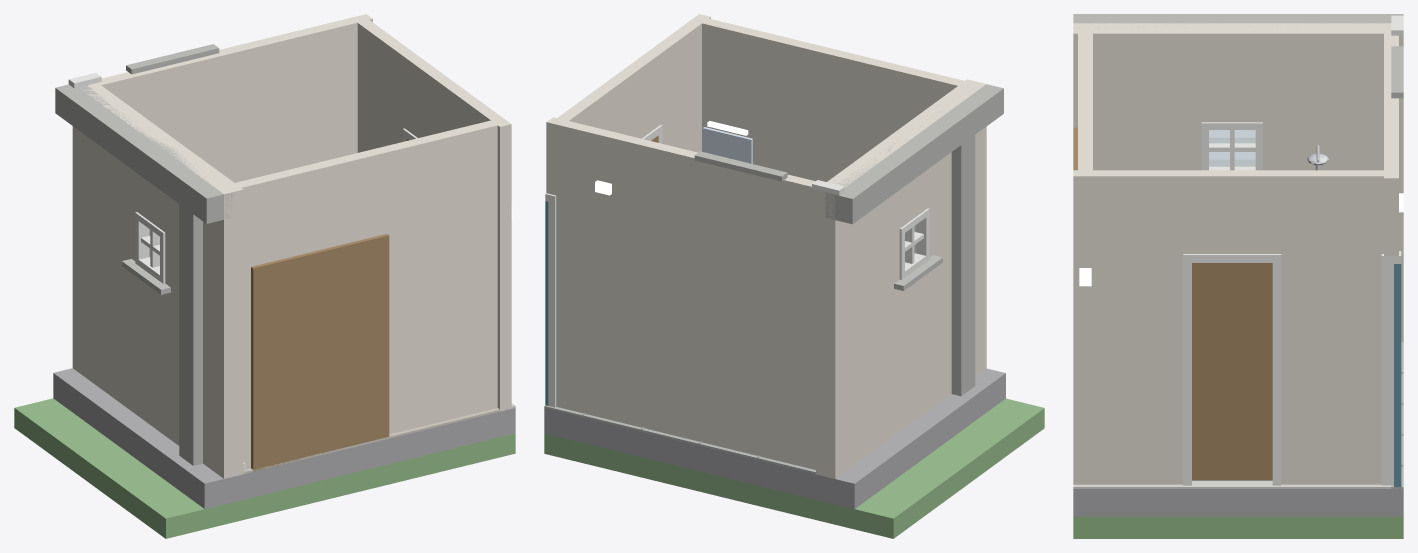
The picture shows the model from 3 angles, left to right: view 1: azimuth 30°, elevation 25°; view 2: azimuth 150°, elevation 25°; view 3: azimuth 270°, elevation 25°; orthographic projection. The views are drawn at different scales.
Parts seen in each view (by area): view 1: wall, wood, grass, foundation, concrete, trim, floor_carpet, stone; view 2: wall, grass, foundation, concrete, trim, yard_floor, mirror, door, stone; view 3: wall, wood, trim, foundation, grass, concrete, floor_corridor, door, glass, yard_floor.
Boxes of the visible parts, x1,y1,x2,y2 form: wall: [72, 14, 511, 478]; wood: [251, 139, 408, 471]; grass: [14, 398, 515, 538]; foundation: [53, 368, 515, 508]; concrete: [55, 44, 233, 465]; trim: [68, 72, 417, 473]; floor_carpet: [243, 408, 505, 473]; stone: [122, 259, 170, 294]; wall: [546, 14, 986, 478]; grass: [544, 398, 1044, 538]; foundation: [544, 368, 1005, 508]; concrete: [694, 84, 1003, 396]; trim: [545, 125, 929, 407]; yard_floor: [544, 405, 815, 474]; mirror: [703, 127, 752, 163]; door: [545, 201, 548, 405]; stone: [894, 255, 942, 290]; wall: [1073, 23, 1403, 484]; wood: [1073, 127, 1272, 480]; trim: [1183, 15, 1403, 485]; foundation: [1073, 372, 1403, 516]; grass: [1073, 516, 1403, 538]; concrete: [1073, 14, 1403, 98]; floor_corridor: [1073, 481, 1391, 488]; door: [1394, 264, 1401, 488]; glass: [1209, 130, 1255, 166]; yard_floor: [1391, 342, 1403, 488].
Bounding box in the file's own units: 3.6 × 3.3 × 2.7.
